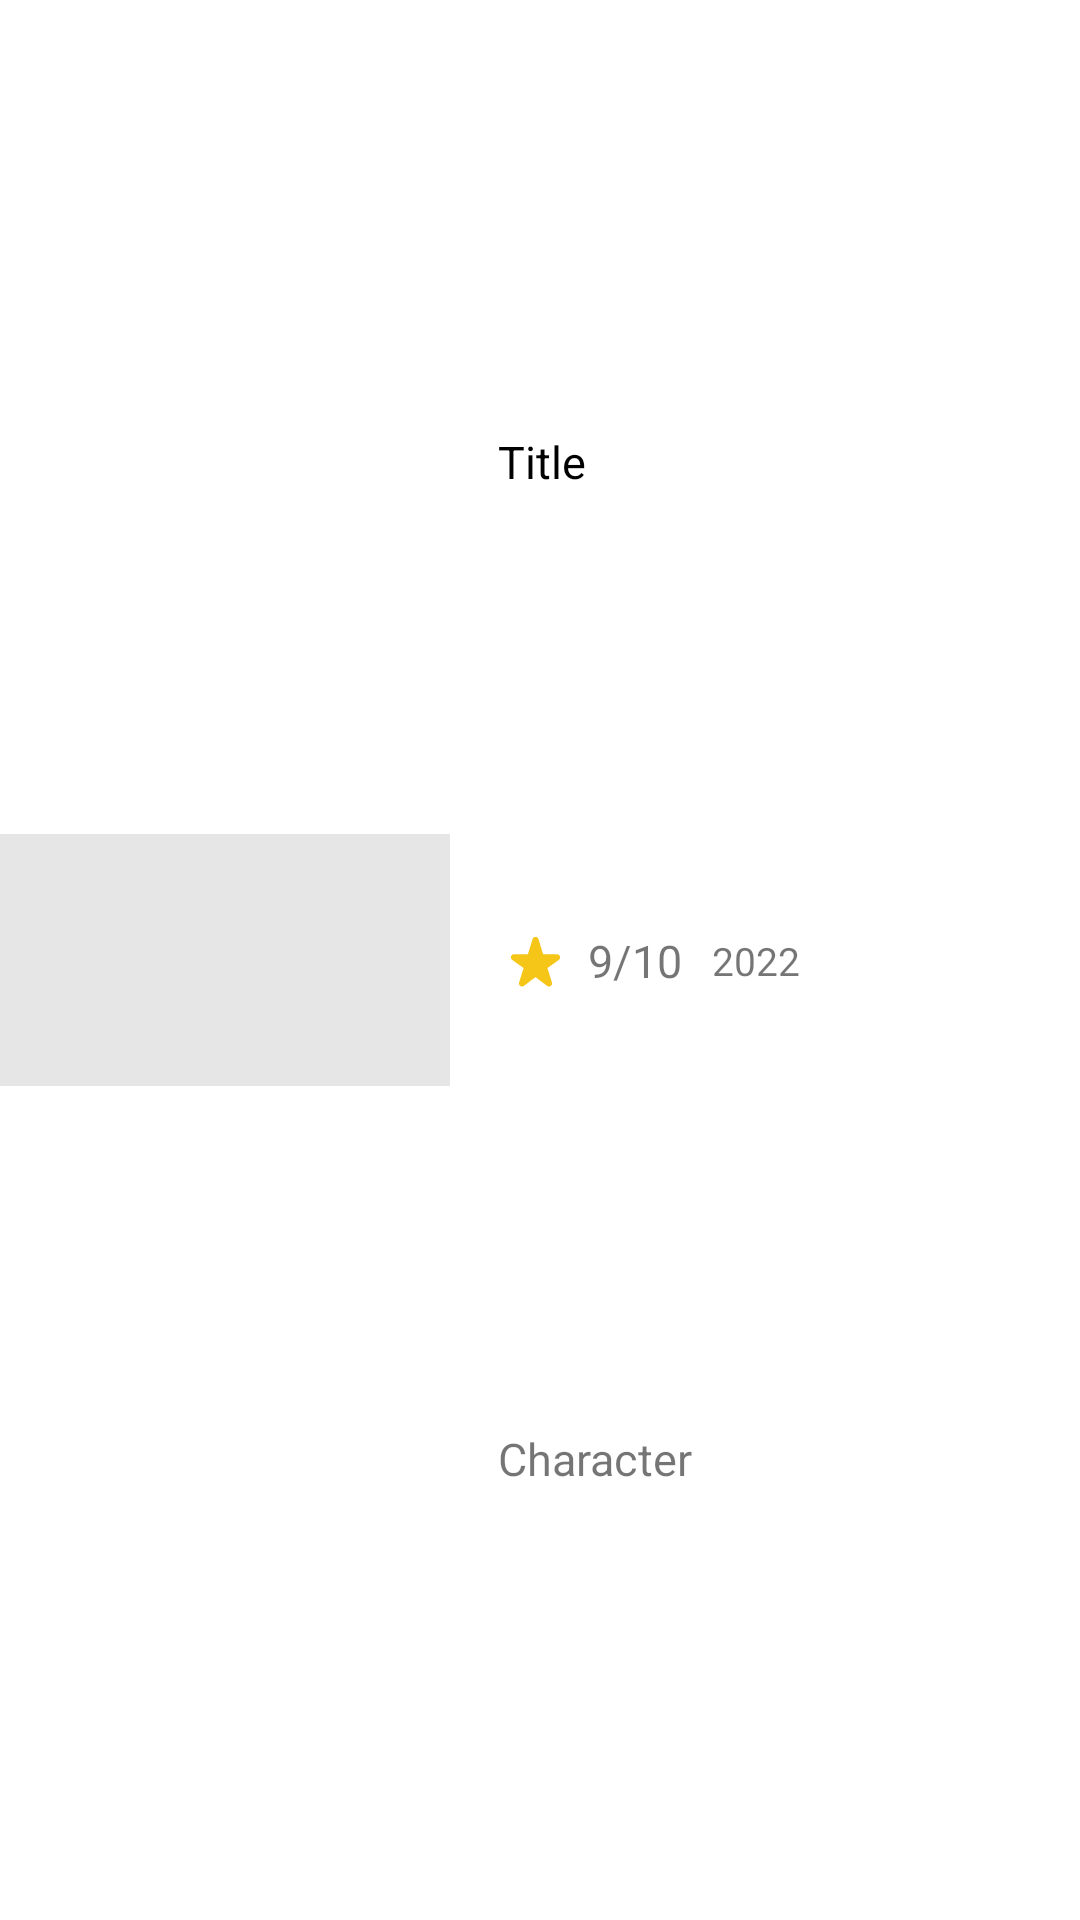

Named icons in this screenshot (1080 x 1920) and their centers, [x,y]:
star rate: [535,962]
